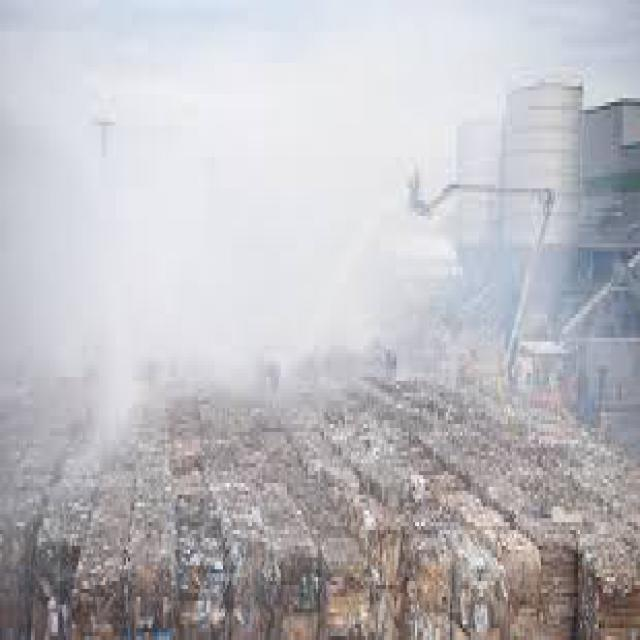smoke: (10, 20, 514, 483)
